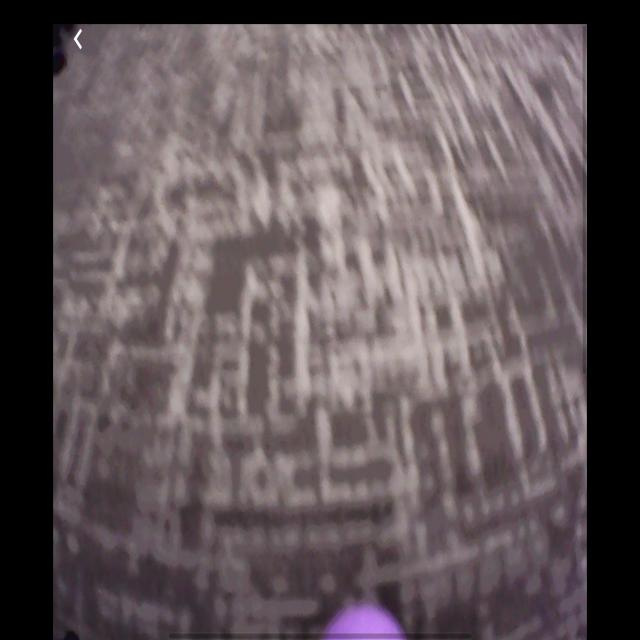ball: (326, 608, 403, 640)
